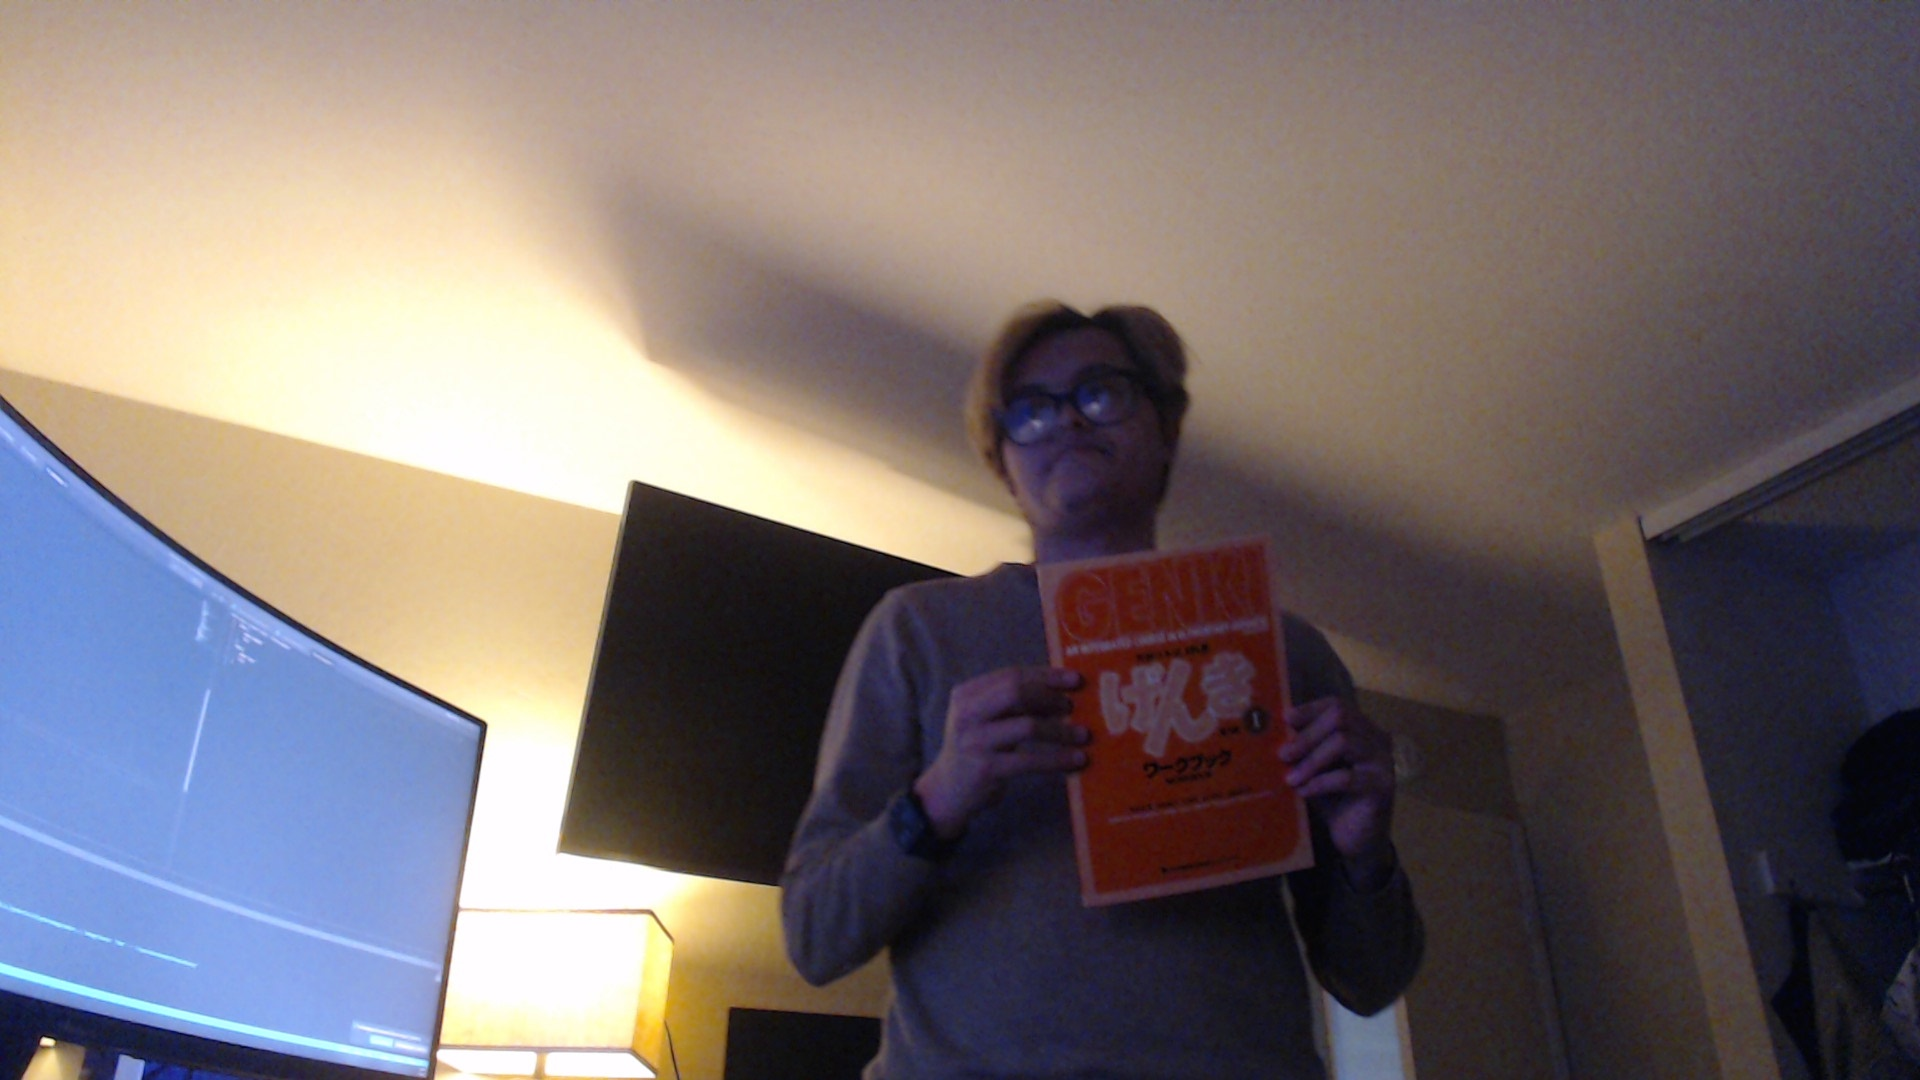book: (1035, 530, 1317, 913)
